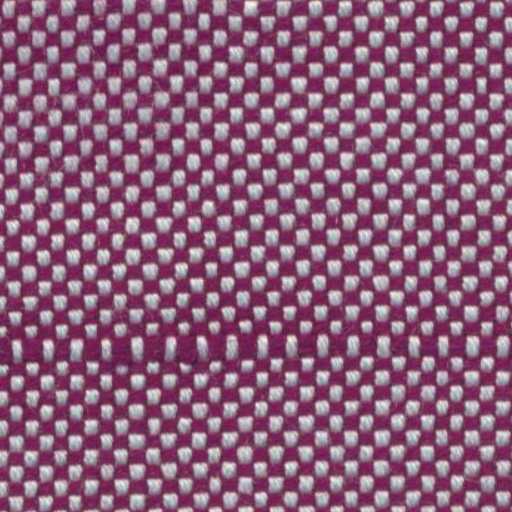DaiSha: (16, 326, 484, 382)
